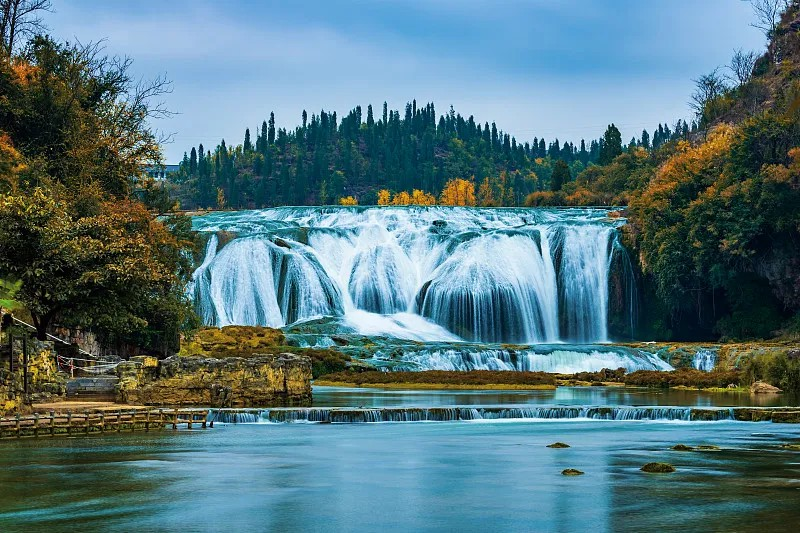Huangguoshu: (181, 205, 625, 343)
